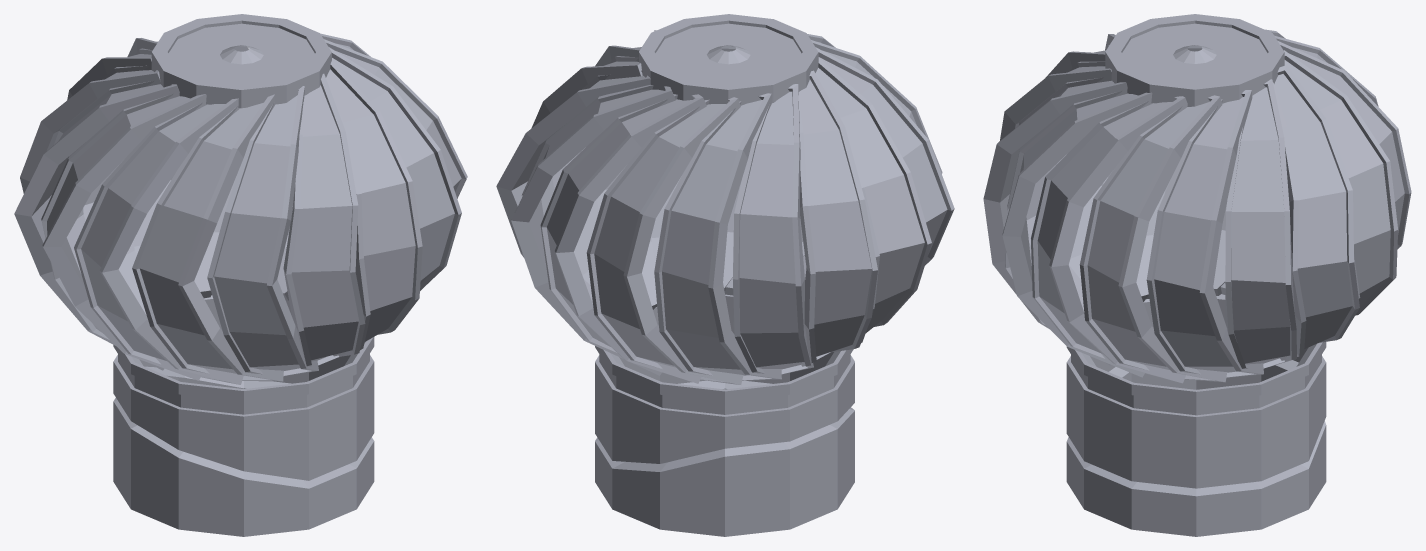
The model's file is SM_vent_02.fbx.
3 views of the same model, side by side, from view 1: azimuth 30°, elevation 25°; view 2: azimuth 150°, elevation 25°; view 3: azimuth 270°, elevation 25° (orthographic).
Parts seen in each view (by area): view 1: vent_02; view 2: vent_02; view 3: vent_02.
Boxes of the visible parts, box(x1,y1,x2,y2) form: vent_02: box(14, 14, 467, 536); vent_02: box(496, 14, 954, 536); vent_02: box(983, 14, 1411, 536).
Bounding box in the file's own units: 110 × 113 × 101.
